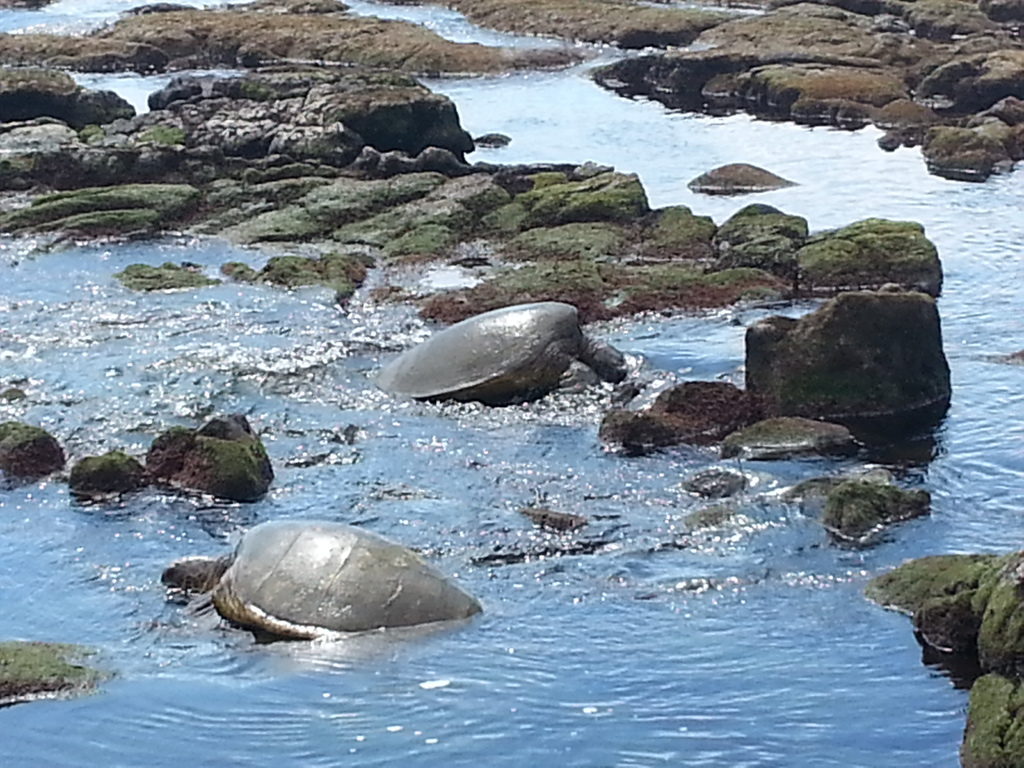Sea turtles: (160, 517, 483, 645), (372, 301, 627, 407)
